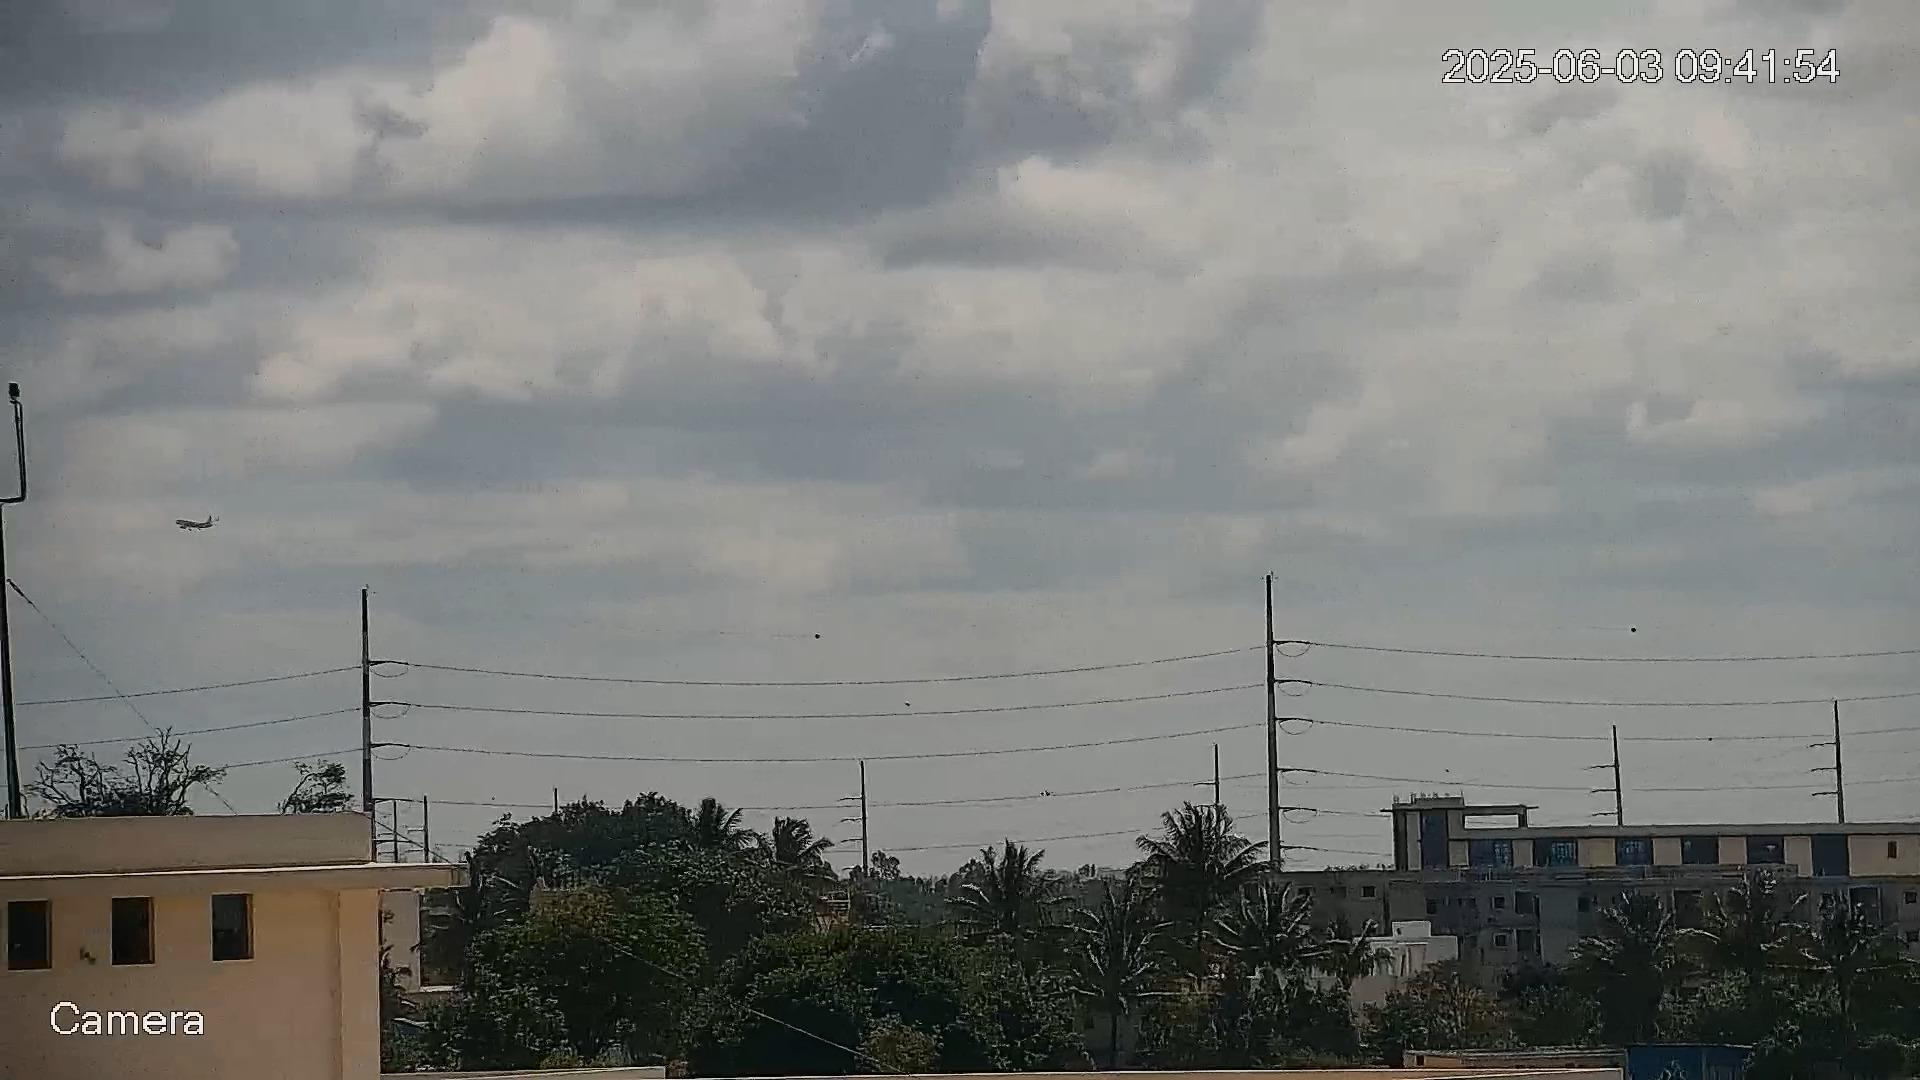Aircraft: (175, 513, 223, 533)
